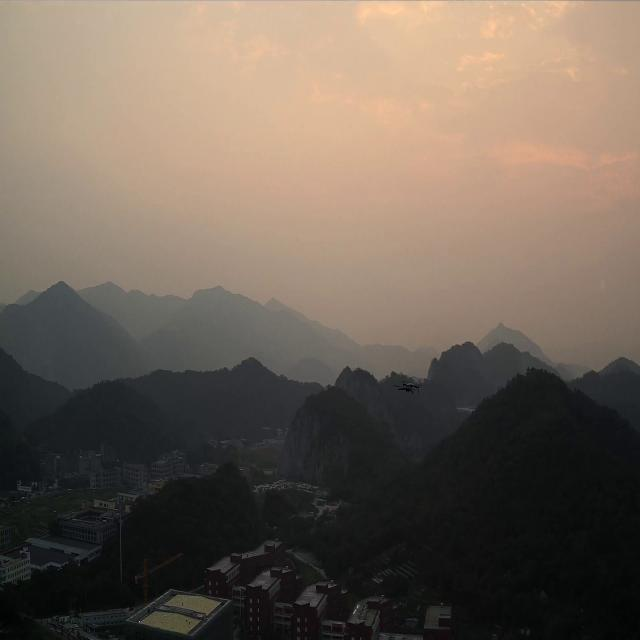drone: (393, 381, 422, 393)
